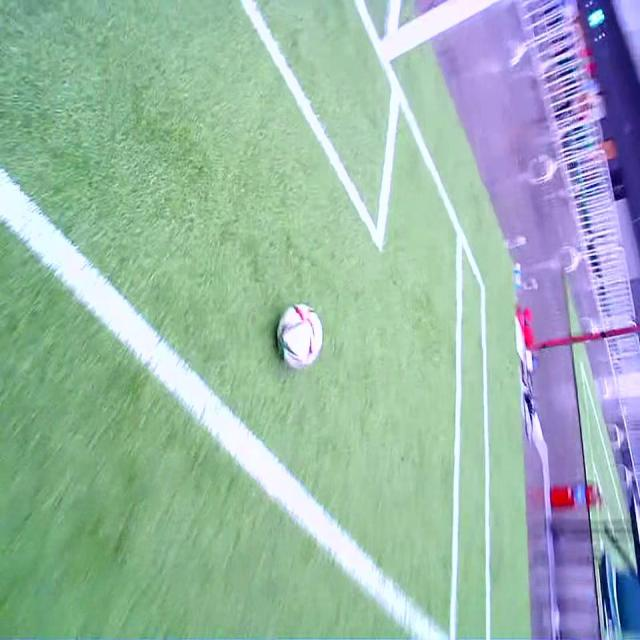ball: (277, 303, 324, 368)
